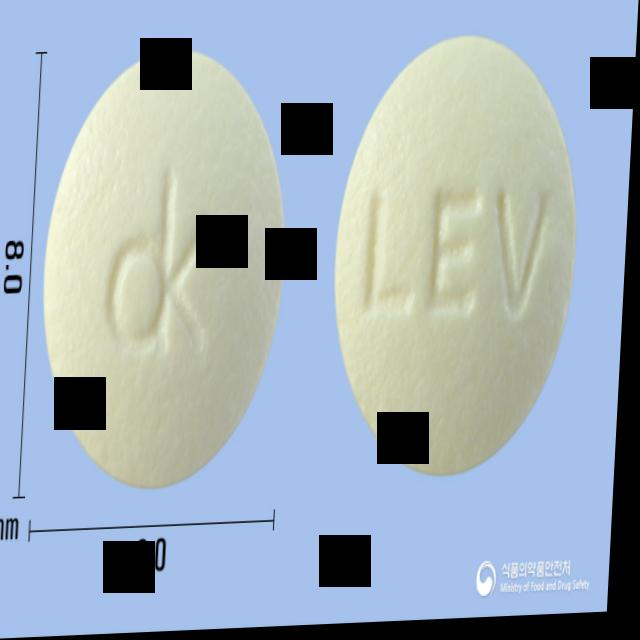Levoracin: (331, 30, 590, 482), (40, 47, 296, 498)
